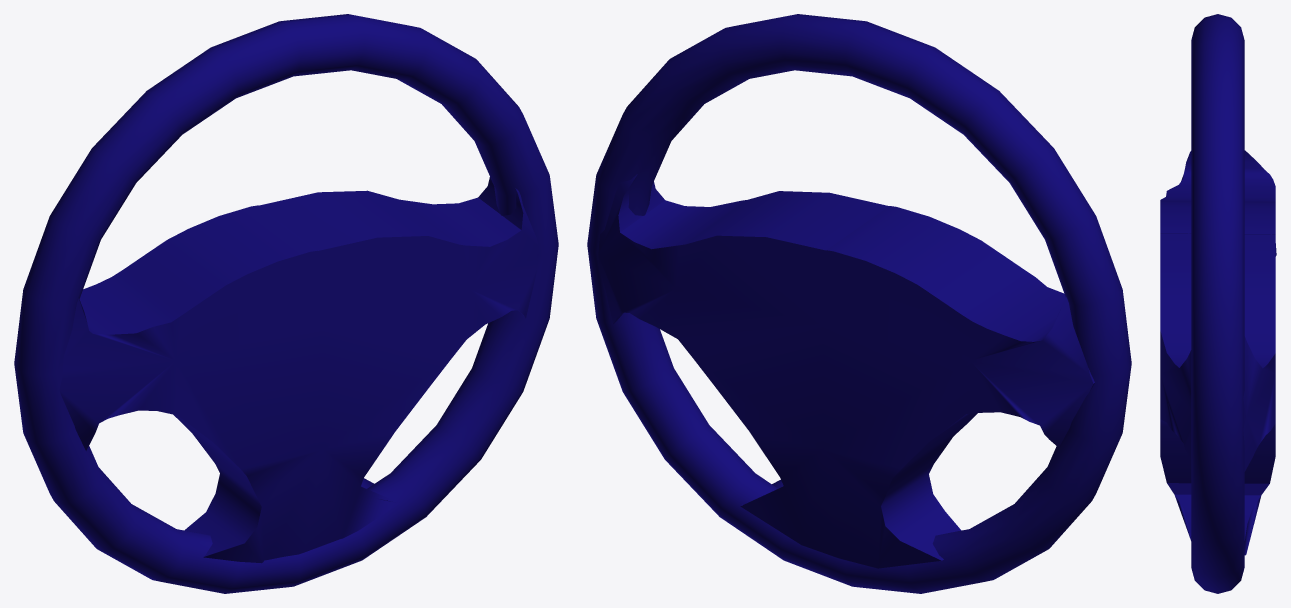
The model's file is coloured steering wheel.fbx.
3 views of the same model, side by side, from view 1: azimuth 30°, elevation 25°; view 2: azimuth 150°, elevation 25°; view 3: azimuth 270°, elevation 25° (orthographic). The views are drawn at different scales.
Visible parts, largest first — view 1: Steering wheel; view 2: Steering wheel; view 3: Steering wheel.
Part boxes in pixels (<box>): Steering wheel: <box>14,14,558,593</box>; Steering wheel: <box>587,14,1131,593</box>; Steering wheel: <box>1160,14,1276,593</box>.
Bounding box in the file's own units: 18.15 × 18.15 × 3.62.
